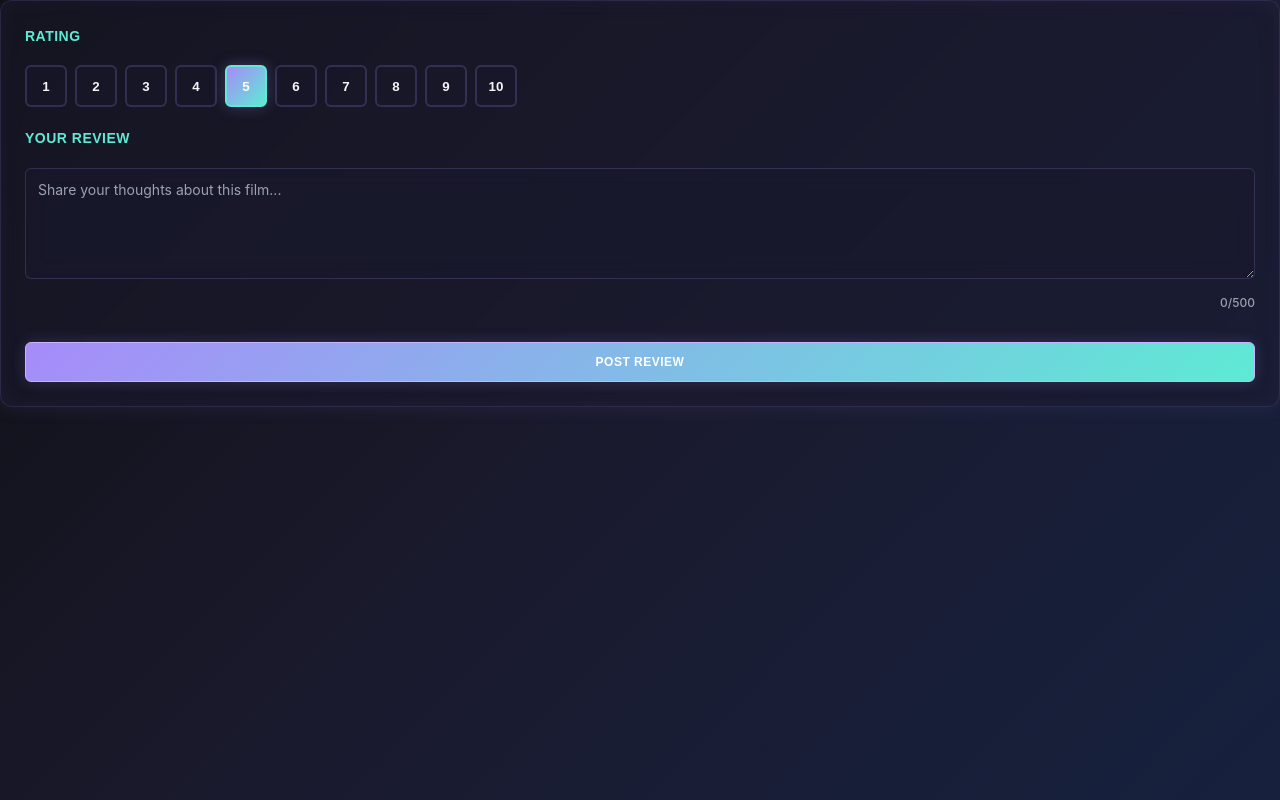
Test case: ReviewForm Component › shows error message on submission failure
This screenshot has width=1280, height=800.
Type "Test" into the text box with placeholder "Share your thoughts about this film..." at (640, 223), box [25,168,1255,279]
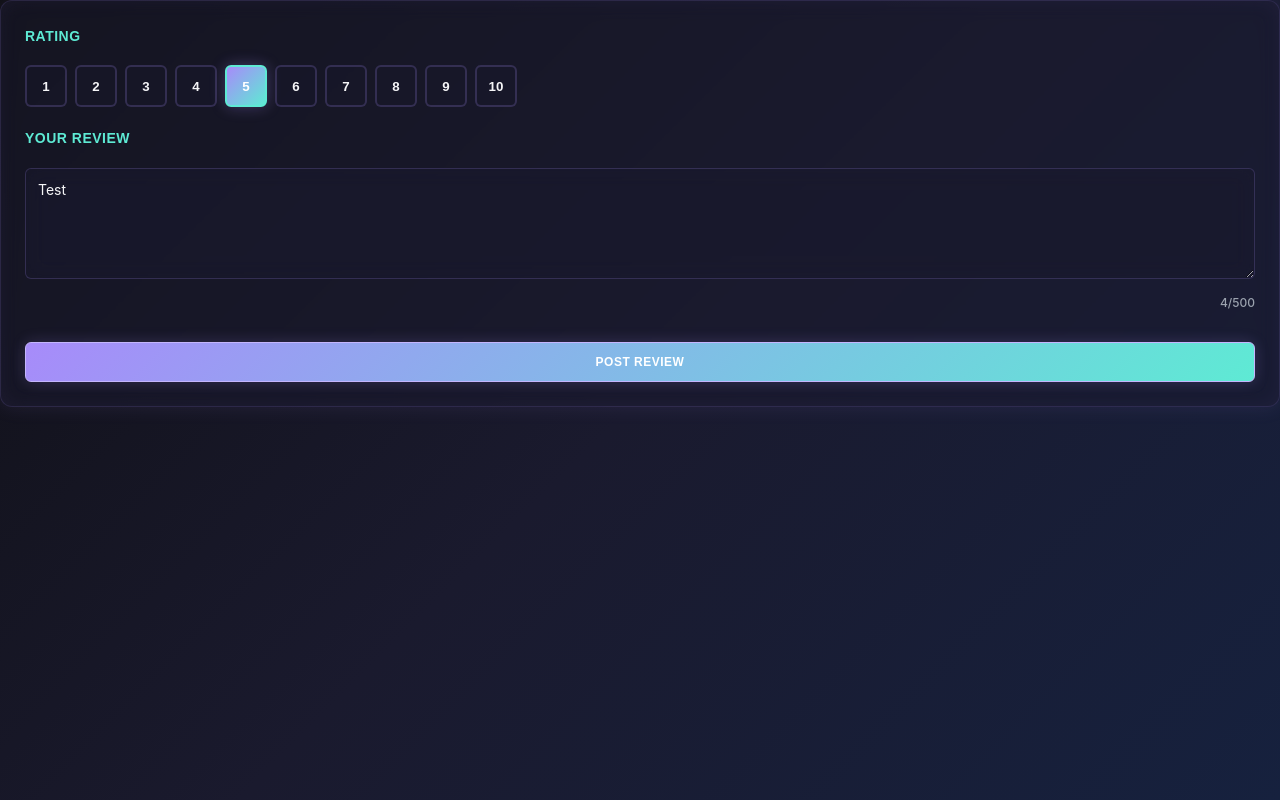
Click the button "Post Review" at (640, 362), box [25,342,1255,382]
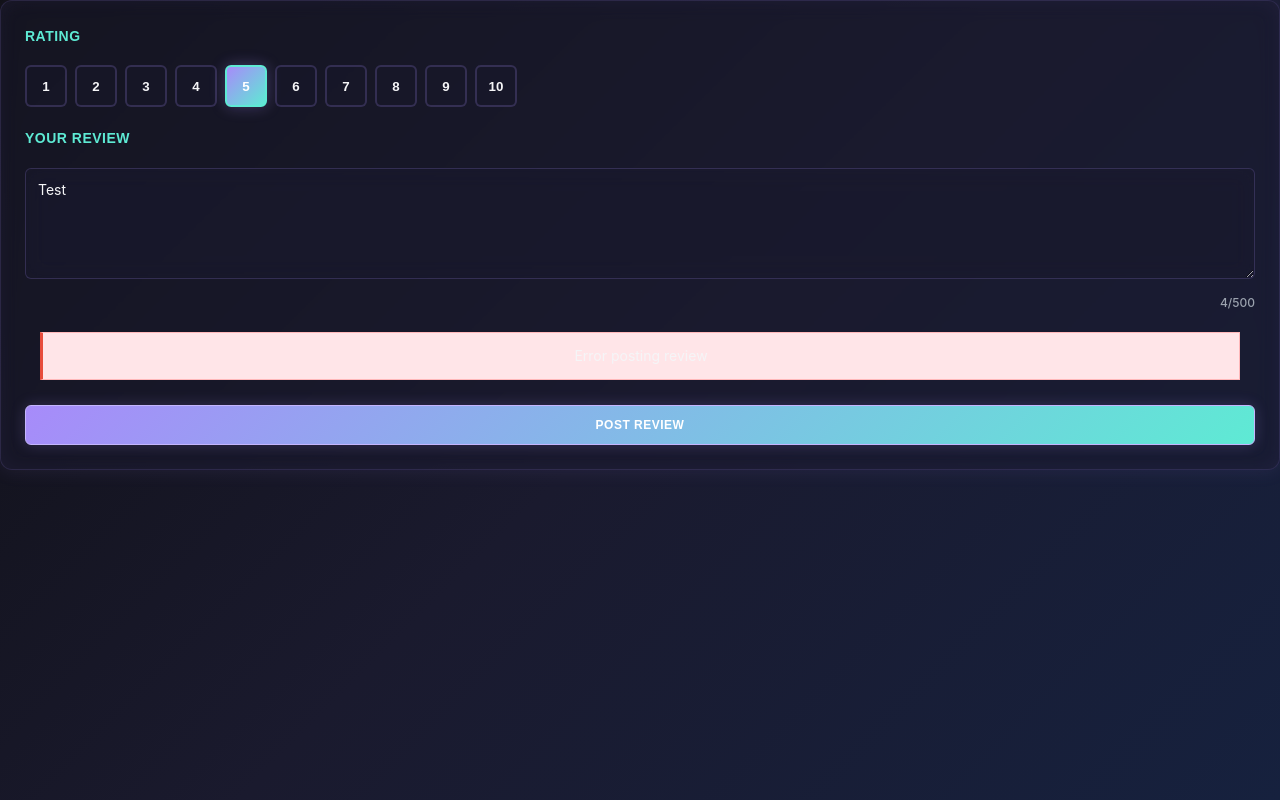
Now the text "Error posting review" is shown, box [40,332,1240,380]
